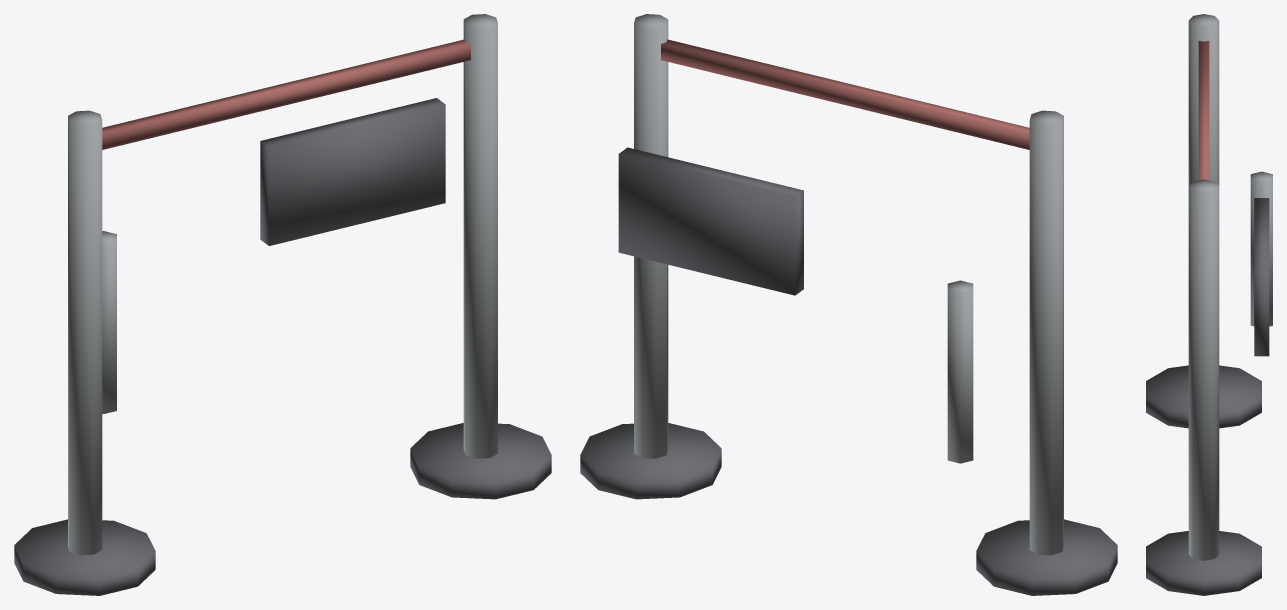
File: queue_stanchion__service.glb
The picture shows the model from 3 angles, left to right: view 1: azimuth 30°, elevation 25°; view 2: azimuth 150°, elevation 25°; view 3: azimuth 270°, elevation 25°; orthographic projection. The views are drawn at different scales.
Visible parts, largest first — view 1: world; view 2: world; view 3: world.
Boxes of the visible parts, left/top/right/bottom form: world: left=14, top=14, right=551, bottom=595; world: left=580, top=14, right=1117, bottom=595; world: left=1146, top=14, right=1272, bottom=595.
Bounding box in the file's own units: 1.18 × 0.975 × 0.2918.
